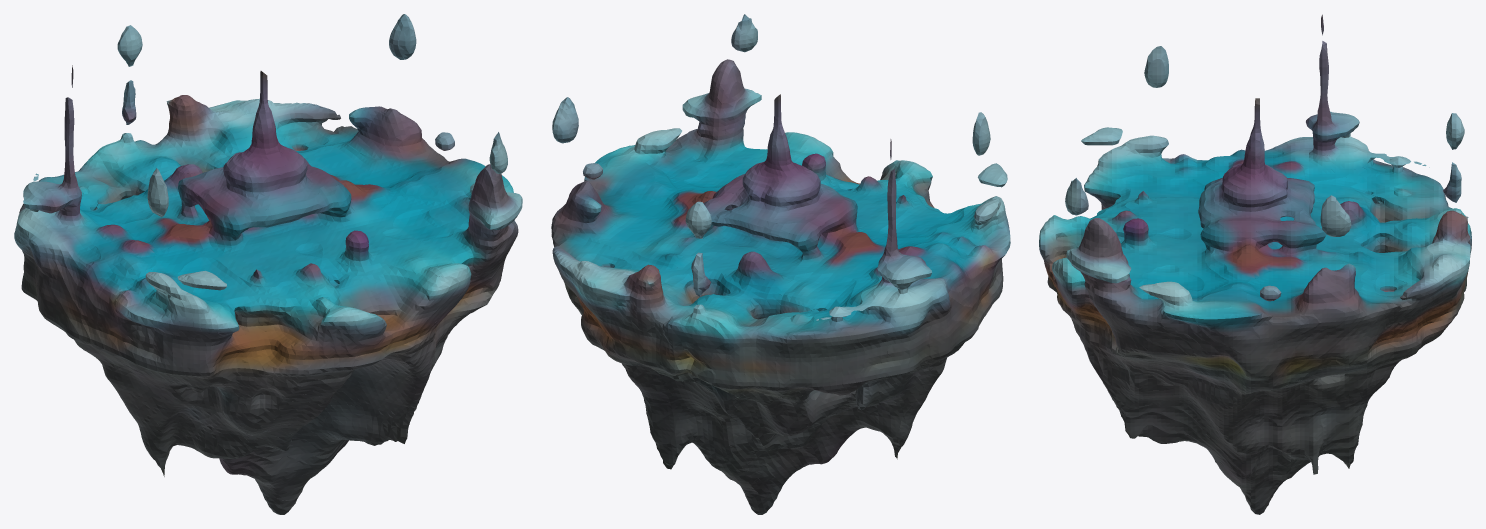
3 renders of one model, left to right at view 1: azimuth 30°, elevation 25°; view 2: azimuth 150°, elevation 25°; view 3: azimuth 270°, elevation 25°, orthographic. The views are drawn at different scales.
Parts seen in each view (by area): view 1: An elaborate fantasy castle built on top of a floating islan; view 2: An elaborate fantasy castle built on top of a floating islan; view 3: An elaborate fantasy castle built on top of a floating islan.
Boxes of the visible parts, box(x1,y1,x2,y2) form: An elaborate fantasy castle built on top of a floating islan: box(14, 14, 522, 514); An elaborate fantasy castle built on top of a floating islan: box(551, 14, 1010, 514); An elaborate fantasy castle built on top of a floating islan: box(1039, 14, 1471, 514).
Bounding box in the file's own units: 1.52 × 1.62 × 1.5.
